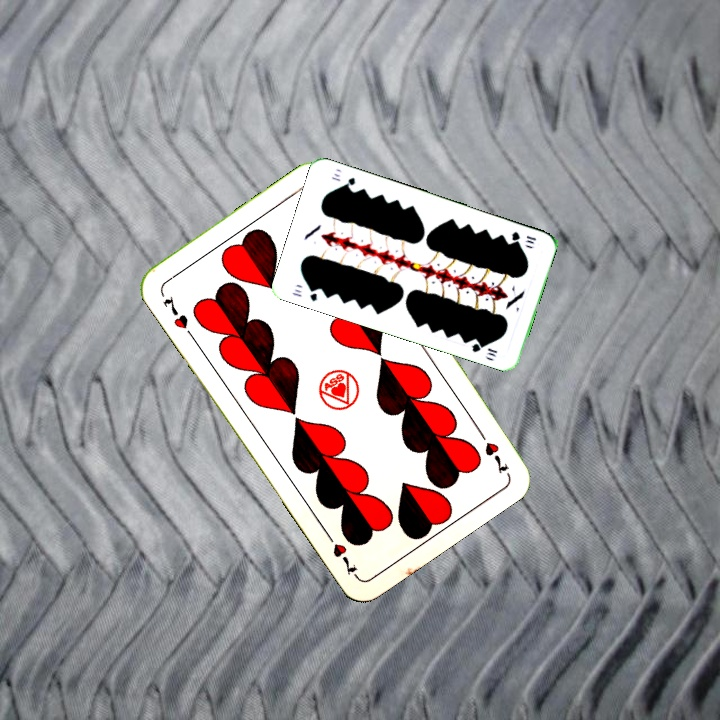G10: (288, 283, 320, 304), (507, 227, 539, 247)
H7: (473, 424, 512, 476), (159, 292, 197, 341)
